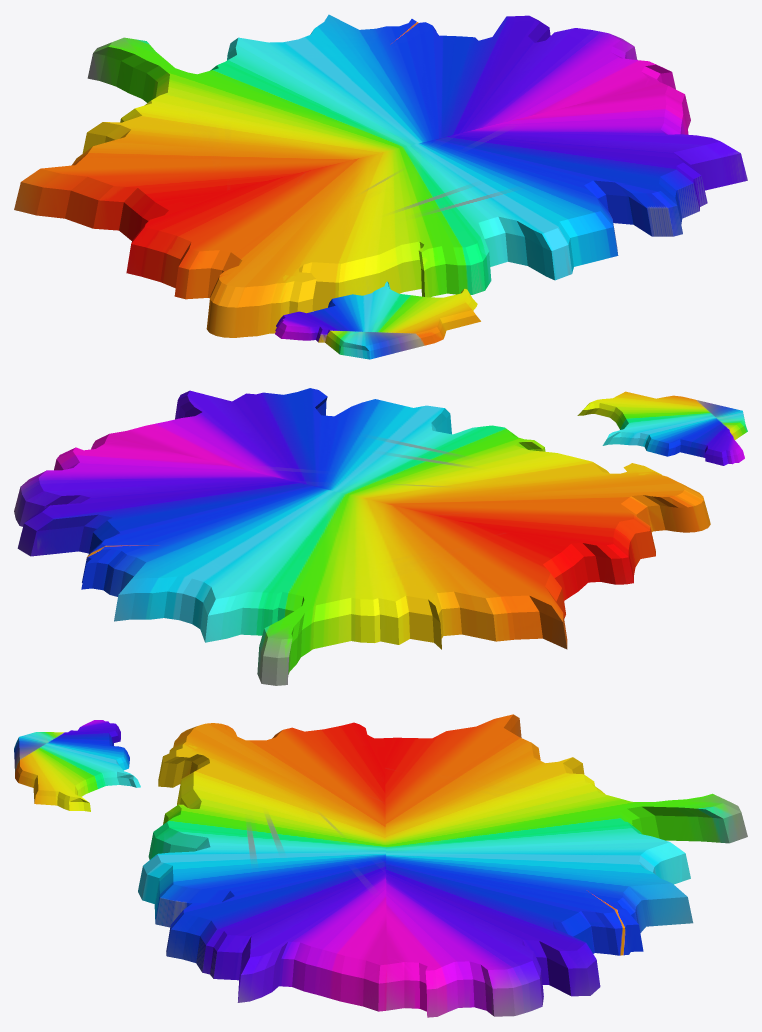
Rendered from RainBowSplatter.FBX.
The picture shows the model from 3 angles, top to bottom: view 1: azimuth 30°, elevation 25°; view 2: azimuth 150°, elevation 25°; view 3: azimuth 270°, elevation 25°; orthographic projection. The views are drawn at different scales.
Visible parts, largest first — view 1: Cylinder002; view 2: Cylinder002; view 3: Cylinder002.
Part boxes in pixels (box(x1,y1,x2,y2)): Cylinder002: box(14, 14, 747, 359); Cylinder002: box(14, 388, 747, 685); Cylinder002: box(14, 714, 747, 1017).
Bounding box in the file's own units: 77.74 × 5.23 × 87.16.
1 material, 1 textured.
